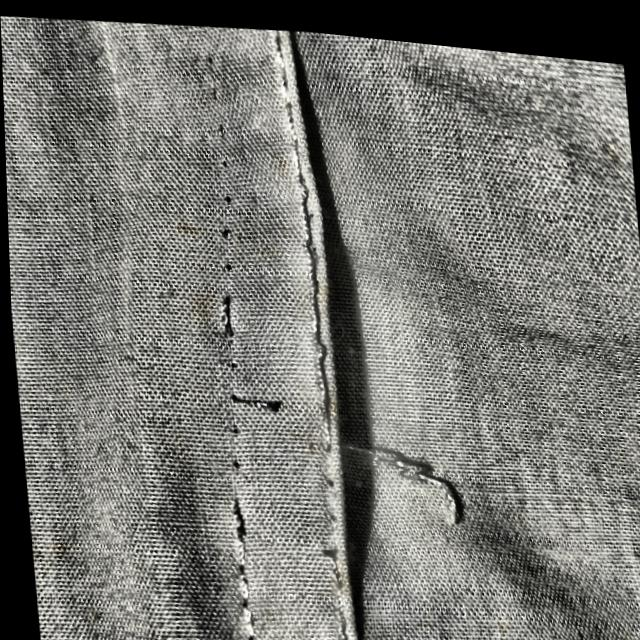Stitch: (181, 181, 477, 627)
